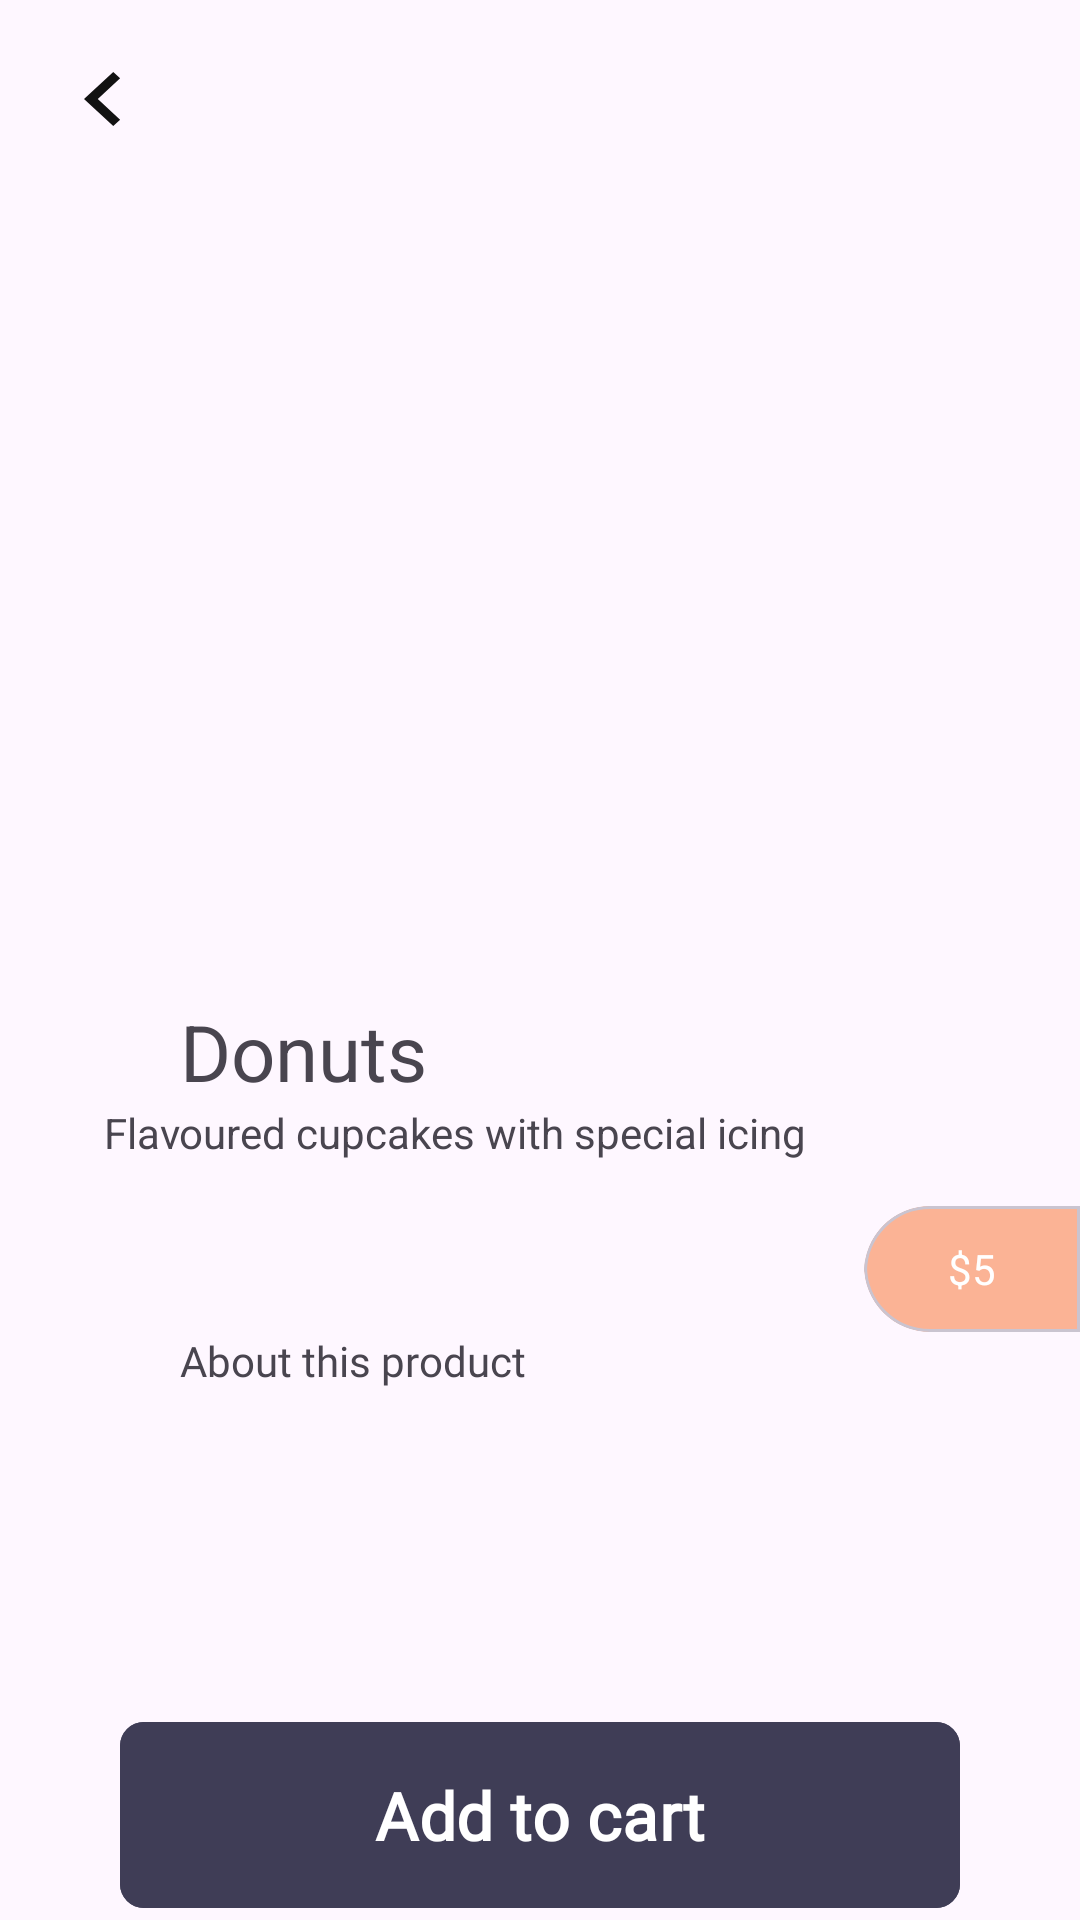

Locate icon controls on the screen. Image size 1080*1920, boxes as (x1, y1, x2, y2).
keyboard arrow left: (84, 72, 120, 126)
